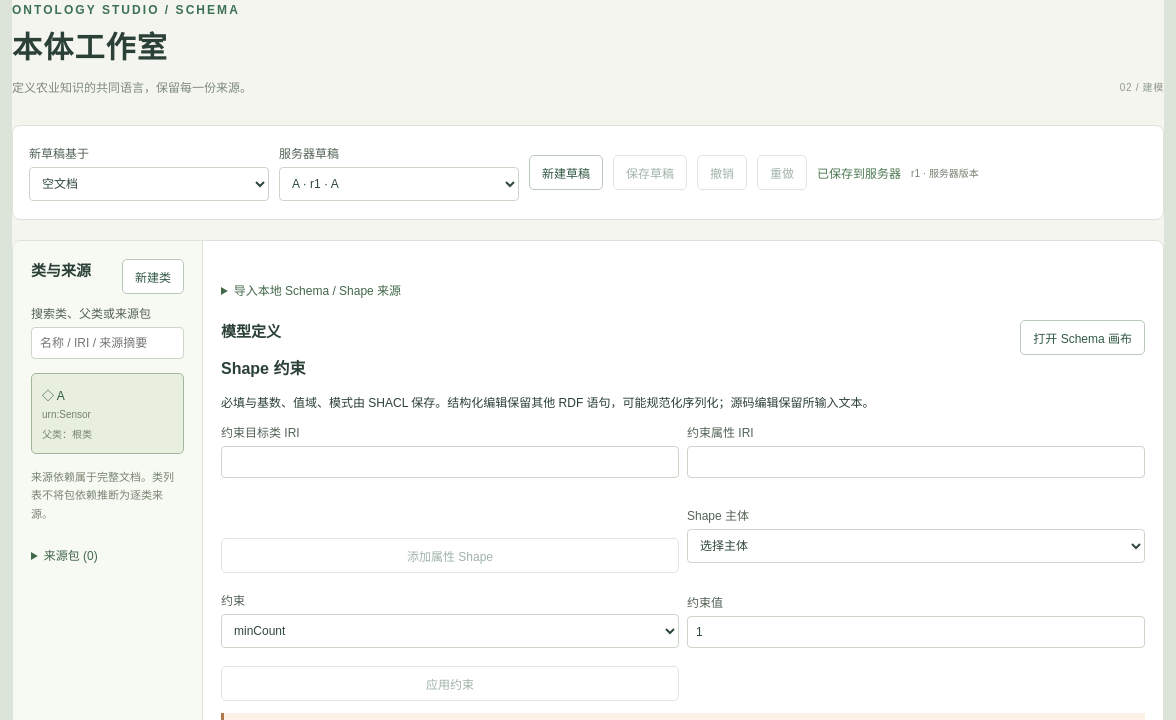
accepts only the latest requested draft when reads finish out of order
Select "B · r1 · B" in the dropdown labelled "服务器草稿". click: coordinates (399, 184)
box: [279,167,519,201]
Select "C · r1 · C" in the dropdown labelled "服务器草稿". click: coordinates (399, 184)
box: [279,167,519,201]
(page scrolled)
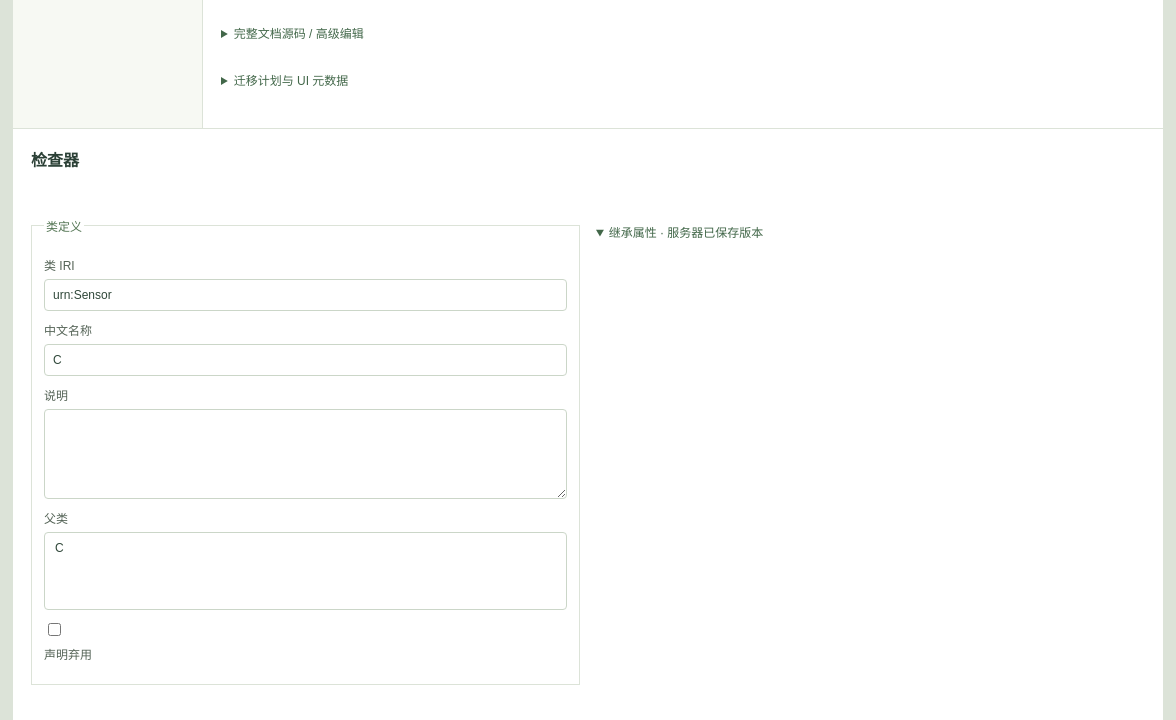
Expected: the field labelled "中文名称" holds "C", [44,344,567,376]
